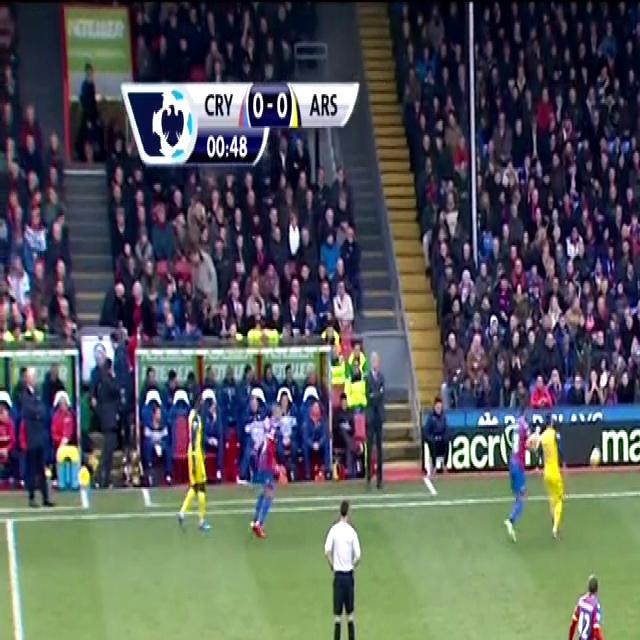ball: (584, 441, 604, 472)
referee: (318, 490, 370, 640)
soccer-player: (176, 392, 214, 540), (540, 413, 570, 540), (560, 574, 615, 640), (501, 431, 529, 547)
